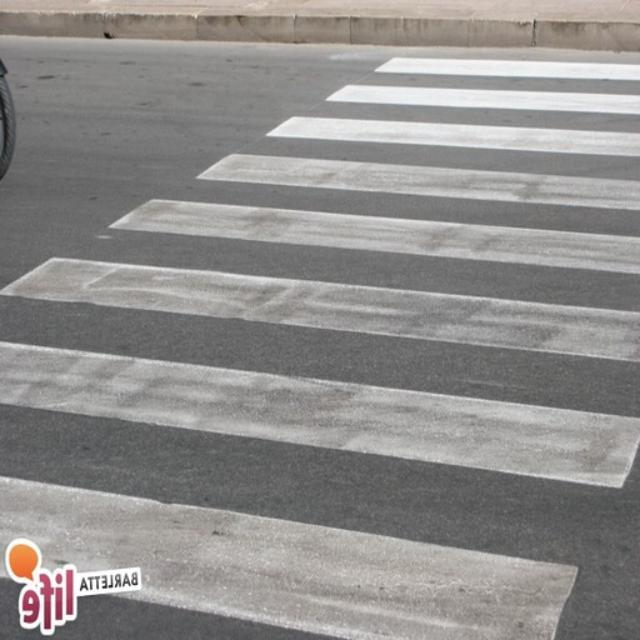sidewalk: (0, 26, 640, 640)
